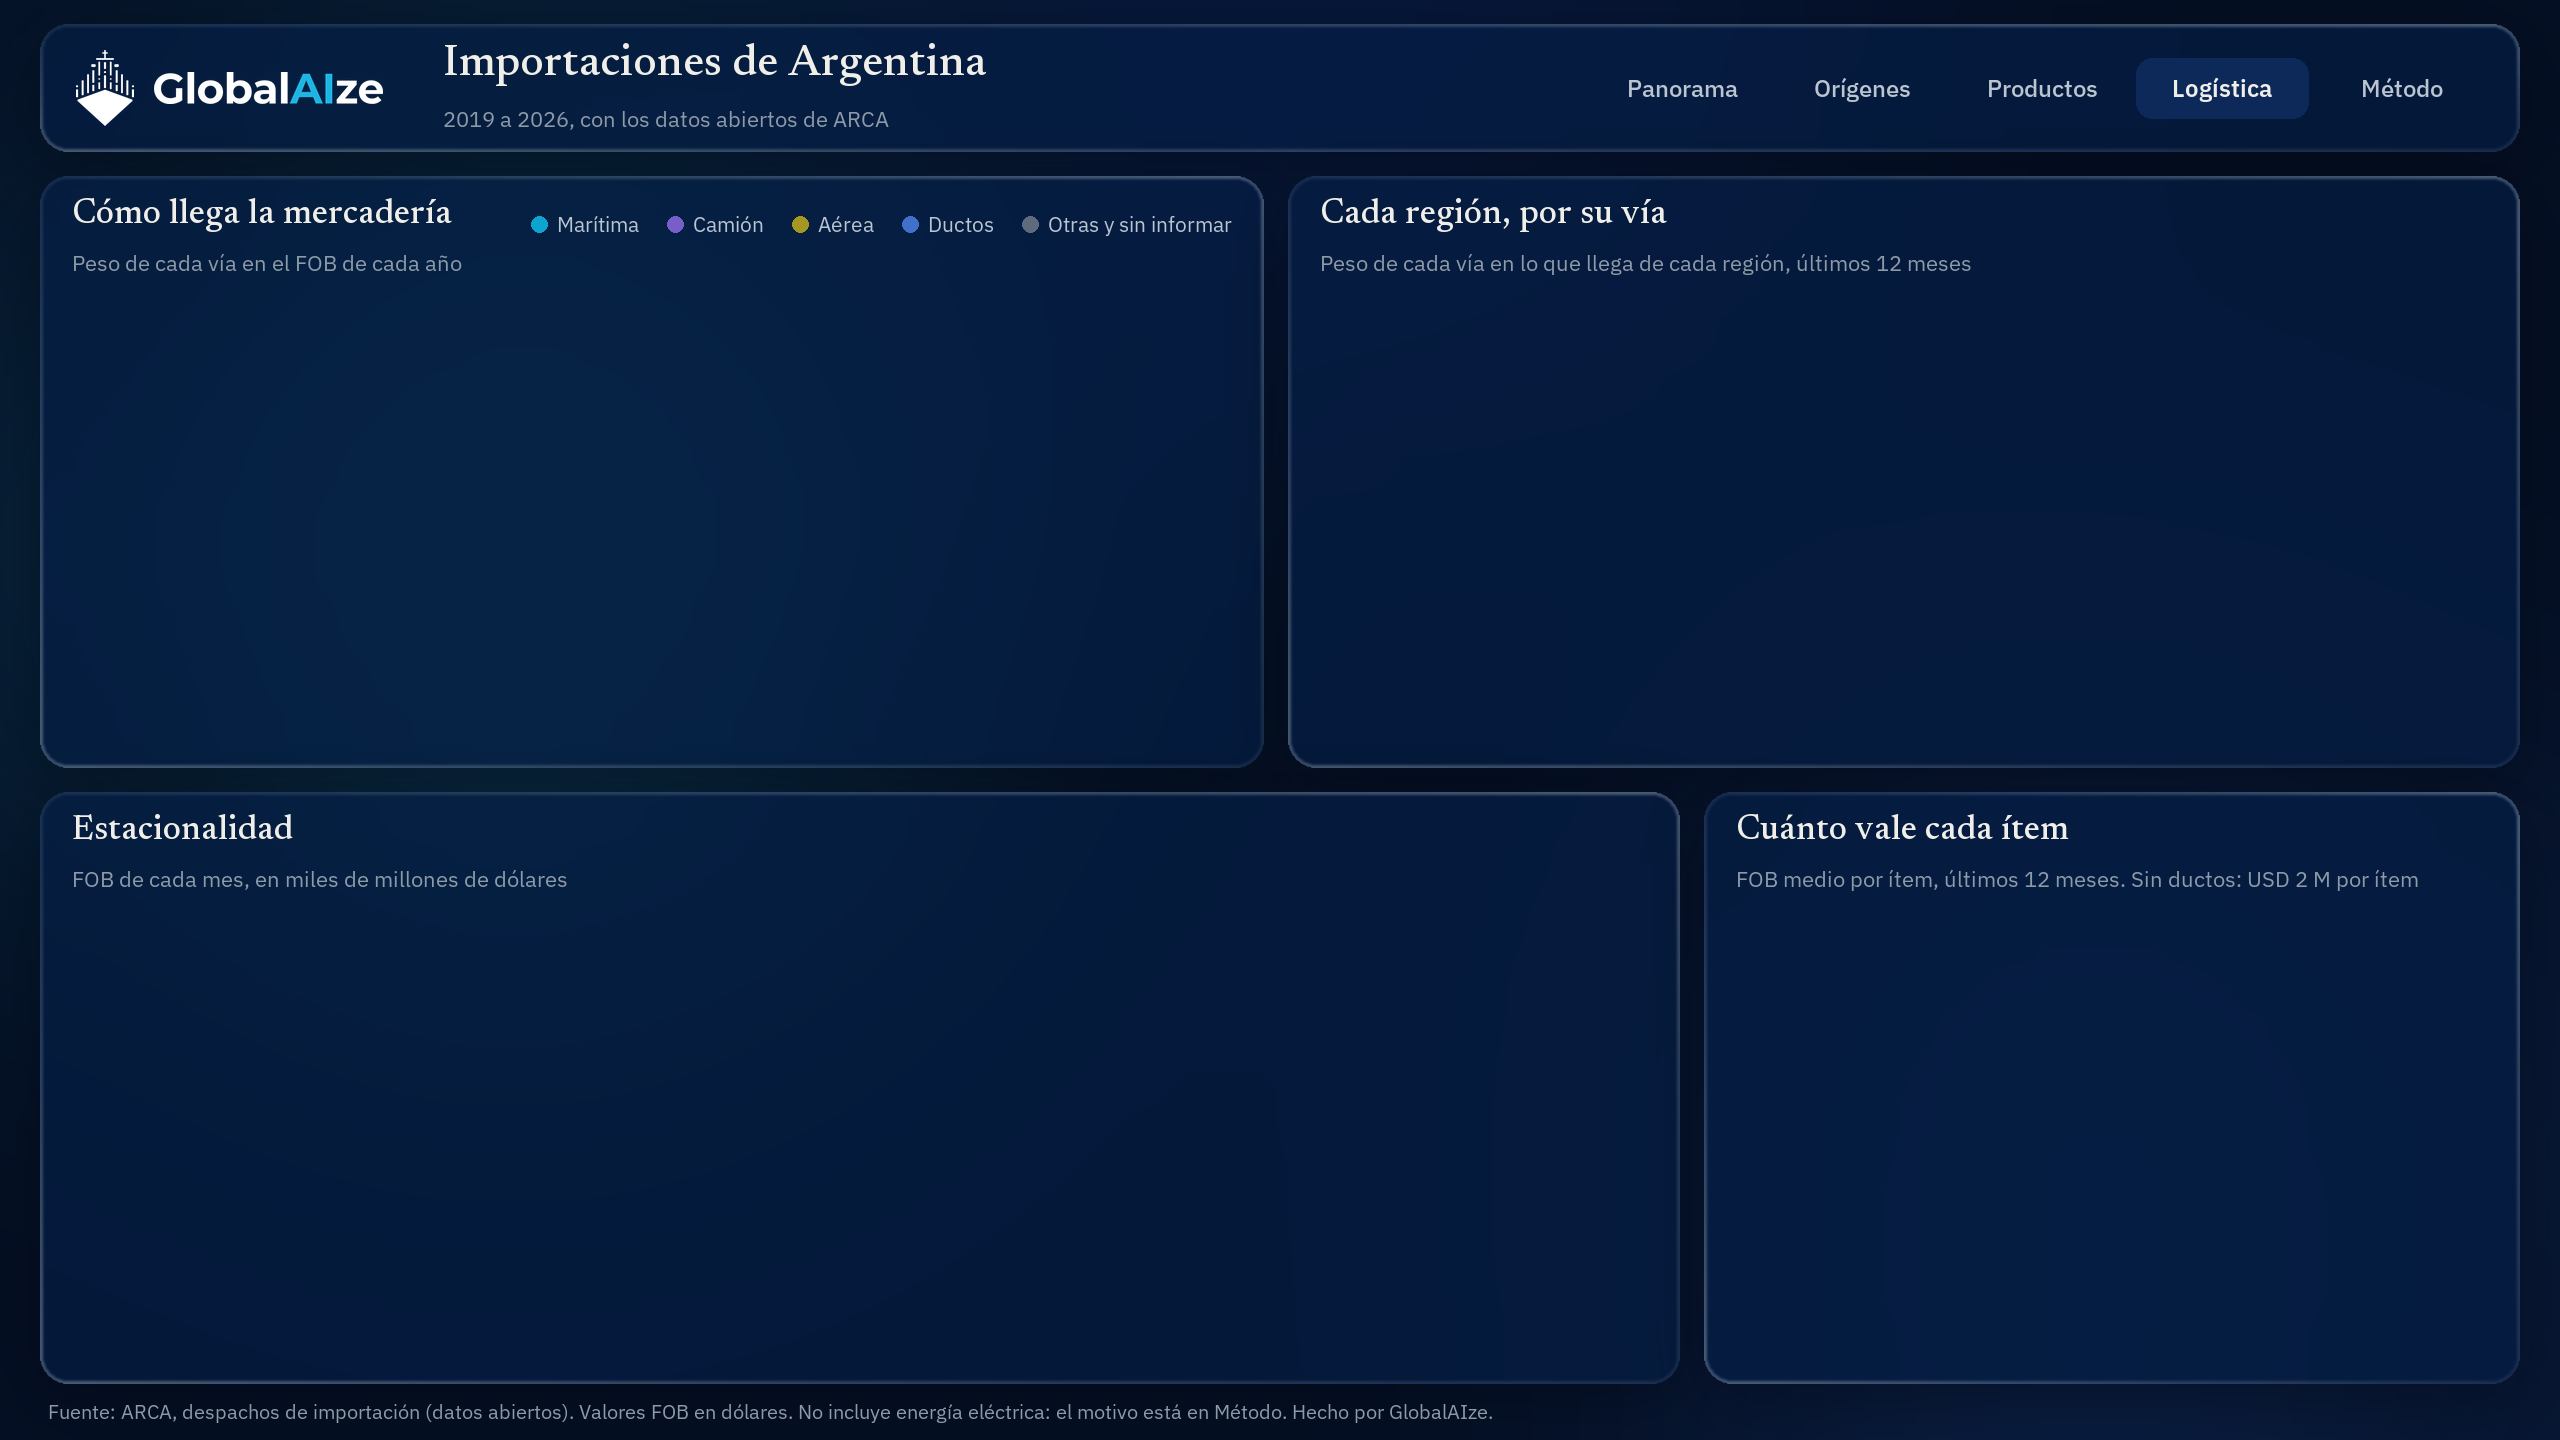

The dashboard page shown, as its layout file describes it:
{"tool":"tableau","page":{"name":"Logística","canvas":[1280,720],"ordinal":3},"visuals":[{"type":"image","param":"fondos/logistica.png","box":[0,0,1280,720]},{"type":"dashboard-object","box":[798,29,86,30]},{"type":"dashboard-object","box":[888,29,86,30]},{"type":"dashboard-object","box":[978,29,86,30]},{"type":"dashboard-object","box":[1158,29,86,30]},{"type":"worksheet","title":"Vías por año","mark":"Bar","rows":["c_peso_anio"],"cols":["Fecha"],"box":[32,144,588,230]},{"type":"worksheet","title":"Región por vía","mark":"Square","rows":["Región"],"cols":["Vía (grupo)"],"box":[656,144,592,230]},{"type":"worksheet","title":"Calendario","mark":"Square","rows":["Fecha"],"cols":["Fecha"],"box":[32,452,796,230]},{"type":"worksheet","title":"Valor por ítem","mark":"Bar","rows":["Vía (grupo)"],"cols":["c_por_item"],"box":[864,452,384,230]}]}

Visuals, with their boxes in screenshot pixels (x1, y1, x2, y2), scaled from the page's 1280x720 canvas onto the 2560x1440 screenshot:
image: left=0, top=0, right=2559, bottom=1439
dashboard-object: left=1596, top=58, right=1768, bottom=118
dashboard-object: left=1776, top=58, right=1948, bottom=118
dashboard-object: left=1956, top=58, right=2128, bottom=118
dashboard-object: left=2316, top=58, right=2488, bottom=118
"Vías por año" worksheet (Bar marks): left=64, top=288, right=1240, bottom=748
"Región por vía" worksheet (Square marks): left=1312, top=288, right=2496, bottom=748
"Calendario" worksheet (Square marks): left=64, top=904, right=1656, bottom=1364
"Valor por ítem" worksheet (Bar marks): left=1728, top=904, right=2496, bottom=1364
